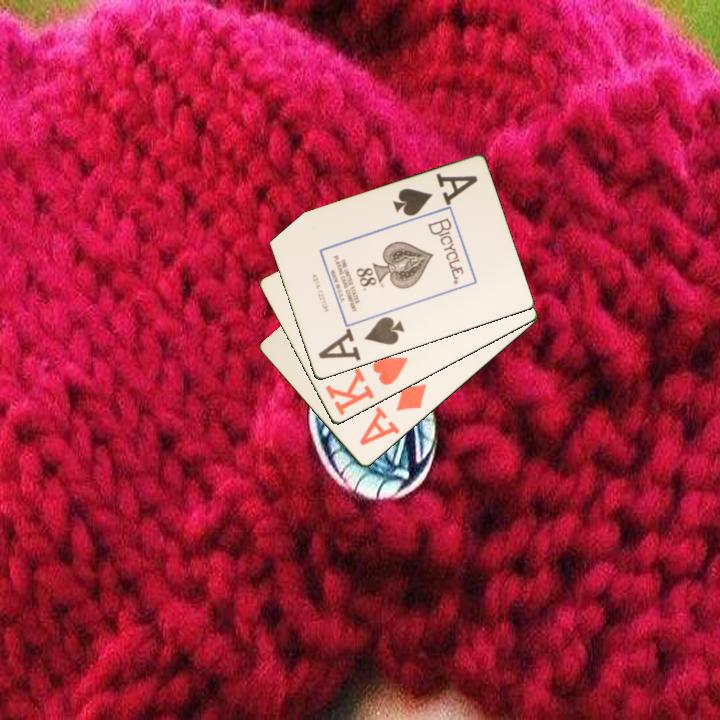Ad: (356, 380, 430, 449)
As: (389, 170, 481, 219), (323, 313, 407, 358)
Kh: (321, 353, 411, 419)
